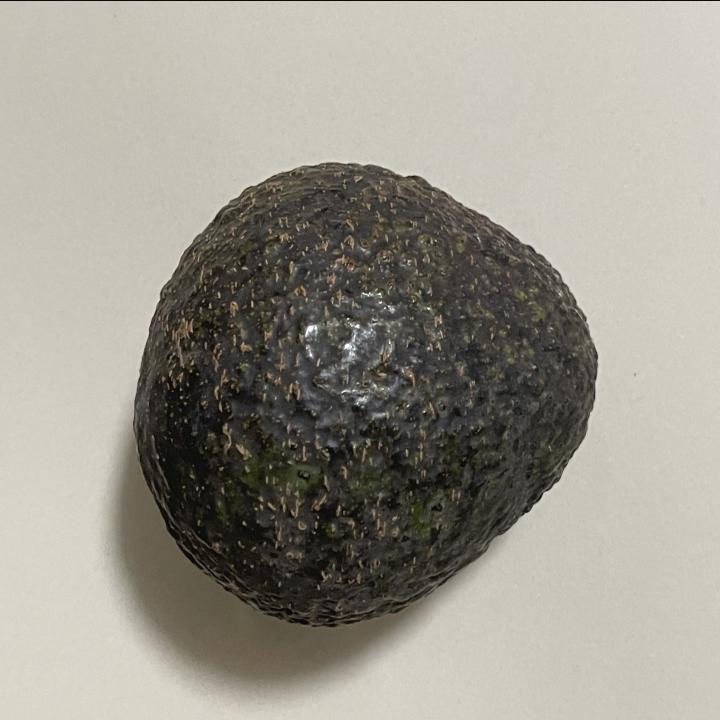Level2: (127, 154, 608, 635)
